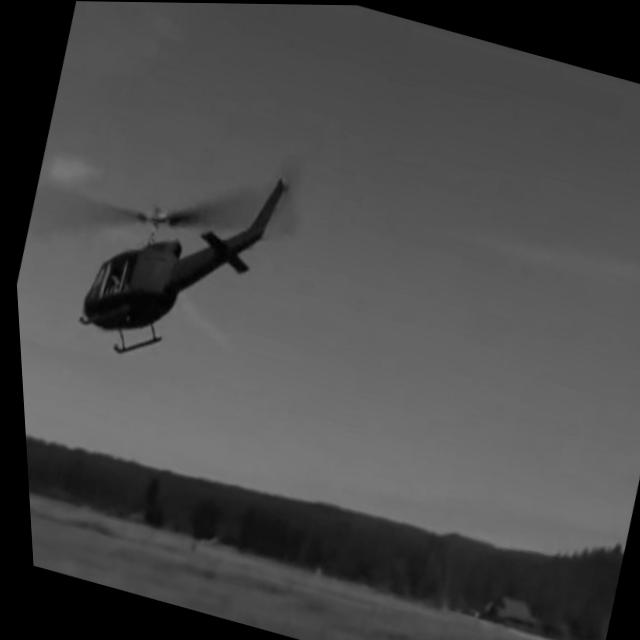helikopter: (4, 93, 311, 403)
